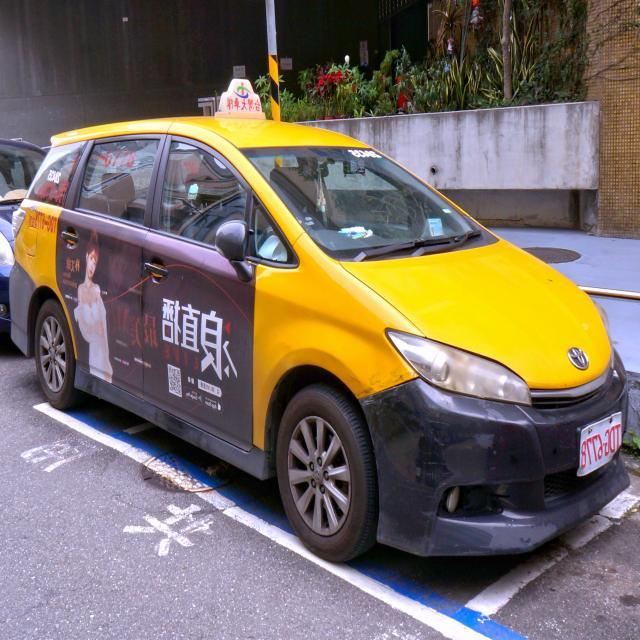taxi: (1, 51, 635, 577)
